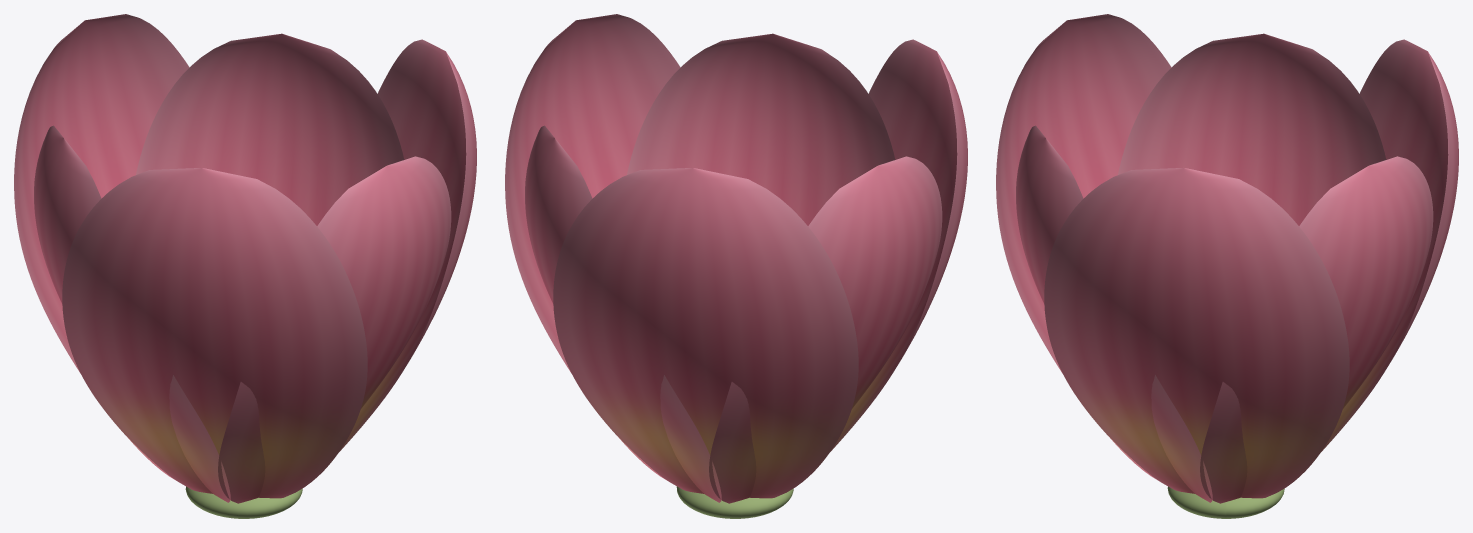
File: tulipan_kvet.glb
3 renders of one model, left to right at view 1: azimuth 30°, elevation 25°; view 2: azimuth 150°, elevation 25°; view 3: azimuth 270°, elevation 25°, orthographic.
Visible parts, largest first — view 1: part_2, part_5, part_4, part_1, part_0, part_3, part_6; view 2: part_4, part_1, part_0, part_3, part_2, part_5, part_6; view 3: part_0, part_3, part_2, part_5, part_4, part_1, part_6.
Part boxes in pixels (x1,y1,x2,y2): part_2: (62,168,367,498); part_5: (136,33,404,225); part_4: (14,14,189,480); part_1: (218,156,451,503); part_0: (301,39,476,488); part_3: (34,125,230,502); part_6: (185,486,302,518); part_4: (553,168,858,498); part_1: (627,33,895,225); part_0: (505,14,680,480); part_3: (709,156,942,503); part_2: (792,39,967,488); part_5: (525,125,721,502); part_6: (676,486,793,518); part_0: (1044,168,1349,498); part_3: (1118,33,1386,225); part_2: (996,14,1171,479); part_5: (1200,156,1433,503); part_4: (1284,39,1458,487); part_1: (1016,125,1212,502); part_6: (1167,486,1284,518).
Bounding box in the file's own units: 0.3559 × 0.3658 × 0.3596.
